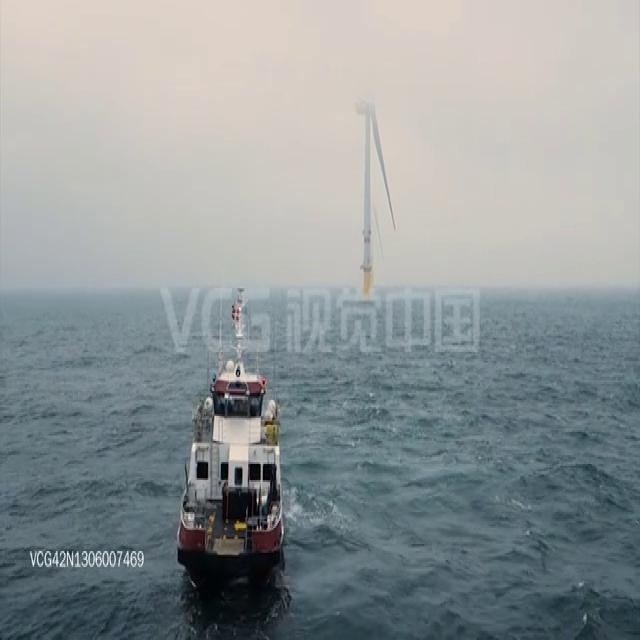houseboat: (178, 304, 287, 578)
